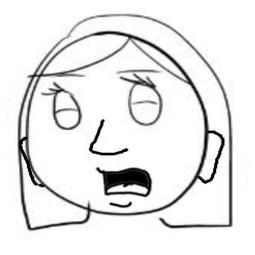ear: (191, 130, 226, 185), (11, 135, 44, 190)
eye: (119, 75, 166, 129), (39, 83, 82, 133)
eyebrow: (114, 68, 162, 75), (54, 72, 90, 78)
open_mouth: (93, 159, 162, 199)
pointy_nose: (87, 117, 129, 161)
